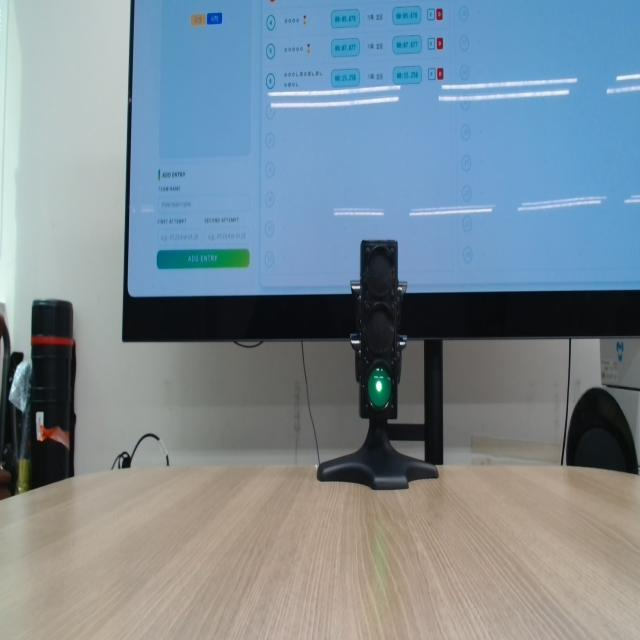green_light: (367, 367, 392, 410)
